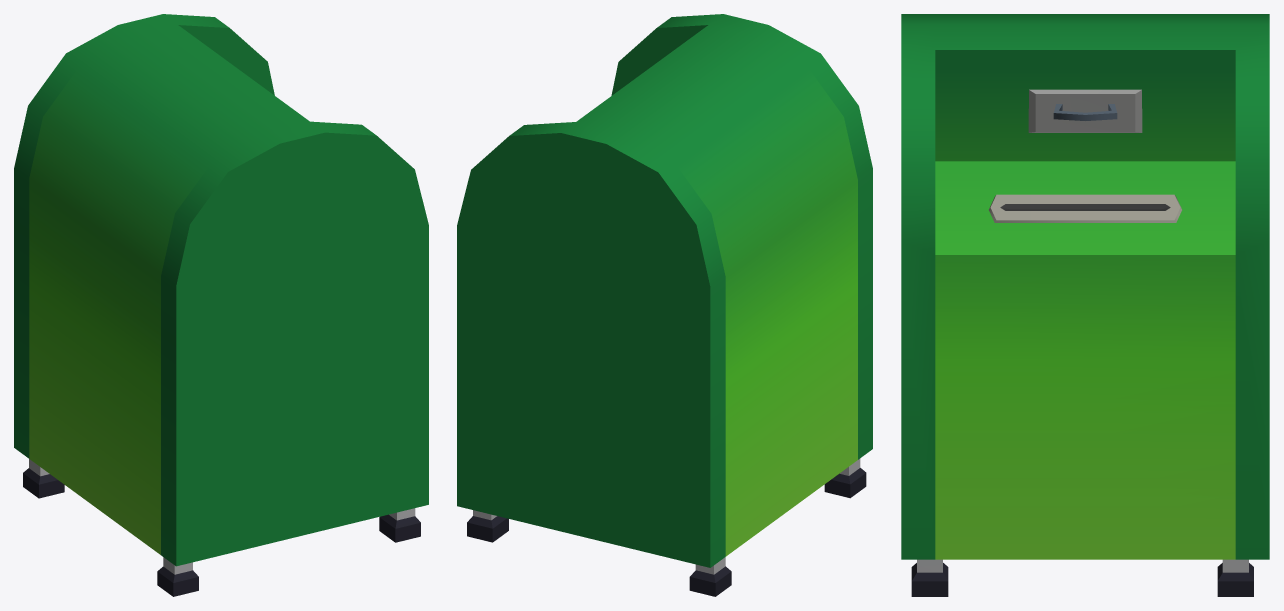
Rendered from PostBox_1_B.glb.
The picture shows the model from 3 angles, left to right: view 1: azimuth 30°, elevation 25°; view 2: azimuth 150°, elevation 25°; view 3: azimuth 270°, elevation 25°; orthographic projection. The views are drawn at different scales.
Parts seen in each view (by area): view 1: PostBox_1_B; view 2: PostBox_1_B; view 3: PostBox_1_B.
Boxes of the visible parts, box(x1,y1,x2,y2) form: PostBox_1_B: box(14, 14, 428, 596); PostBox_1_B: box(457, 14, 872, 596); PostBox_1_B: box(901, 14, 1269, 596).
Bounding box in the file's own units: 0.5121 × 0.8366 × 0.5689.
2 materials, 2 textured.
